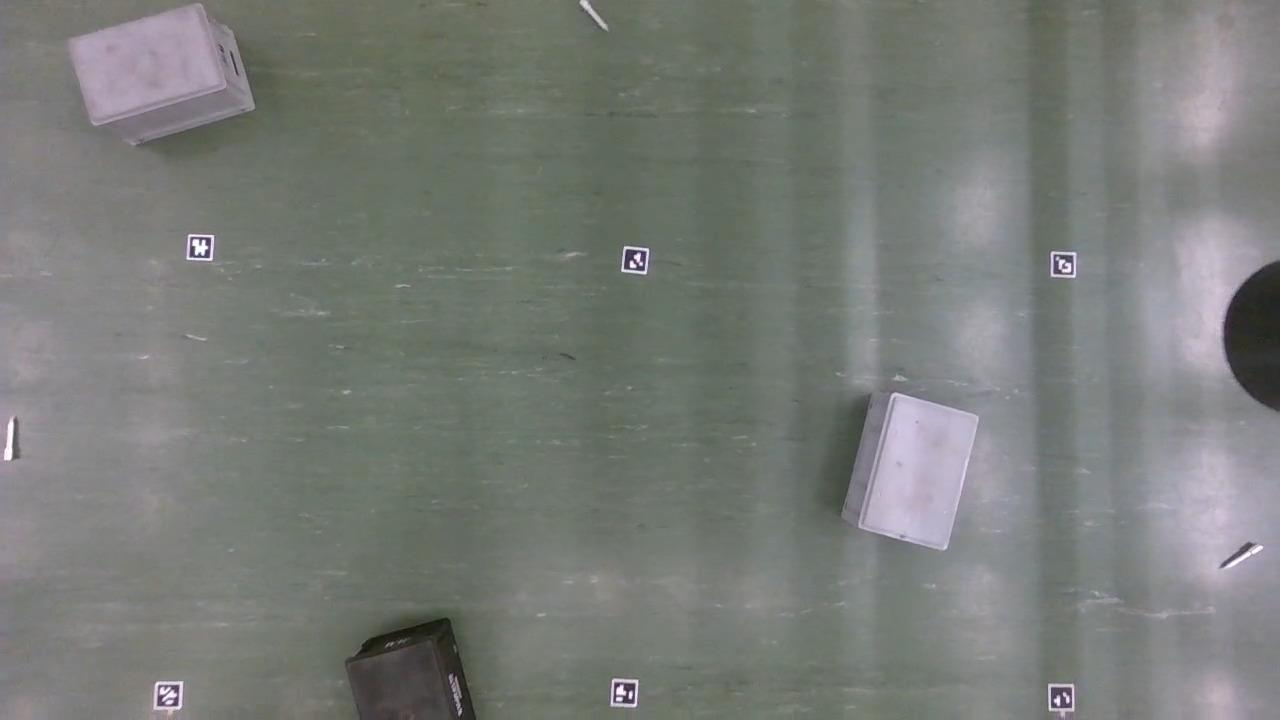probes: (1221, 543, 1261, 570), (582, 1, 608, 32), (6, 417, 18, 462)
rako: (68, 4, 254, 149), (839, 394, 979, 554), (346, 619, 476, 720)
